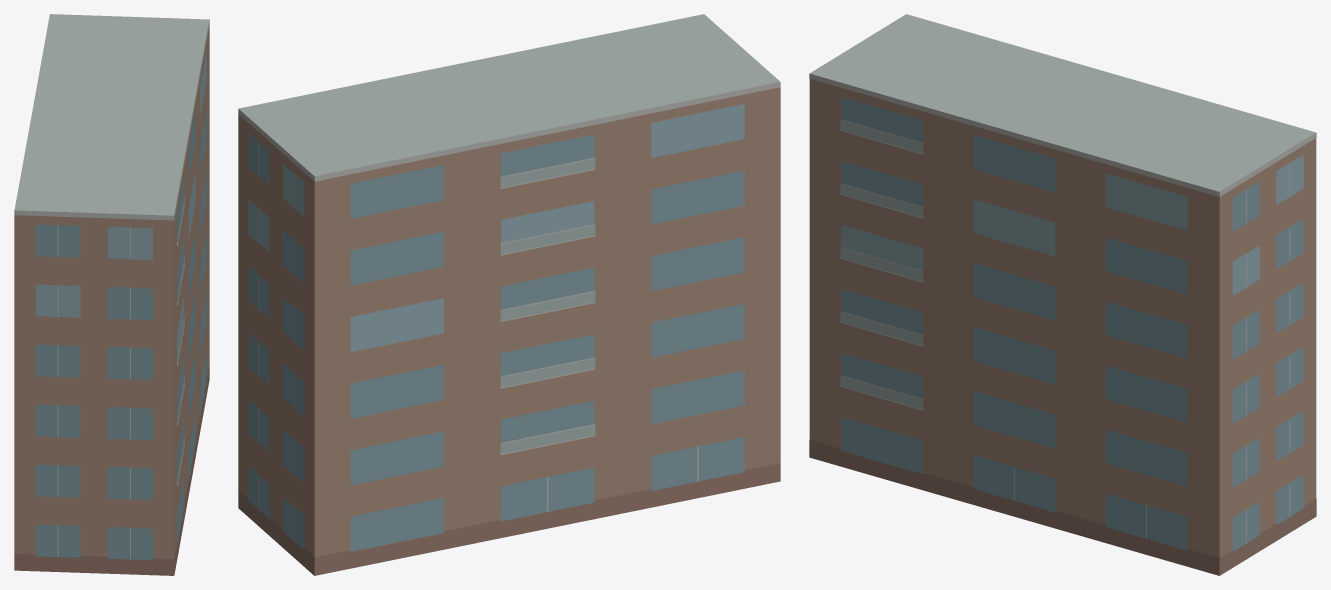
The model's file is survey-upis-32903132.glb.
3 views of the same model, side by side, from view 1: azimuth 30°, elevation 25°; view 2: azimuth 150°, elevation 25°; view 3: azimuth 270°, elevation 25° (orthographic). The views are drawn at different scales.
Visible parts, largest first — view 1: survey-upis-32903132.tmp; view 2: survey-upis-32903132.tmp; view 3: survey-upis-32903132.tmp.
Boxes of the visible parts, left/top/right/bottom form: survey-upis-32903132.tmp: left=14, top=14, right=209, bottom=575; survey-upis-32903132.tmp: left=238, top=14, right=780, bottom=575; survey-upis-32903132.tmp: left=809, top=14, right=1316, bottom=575.
Size of the model in its own units: 18.19 by 18.3 by 21.91.
